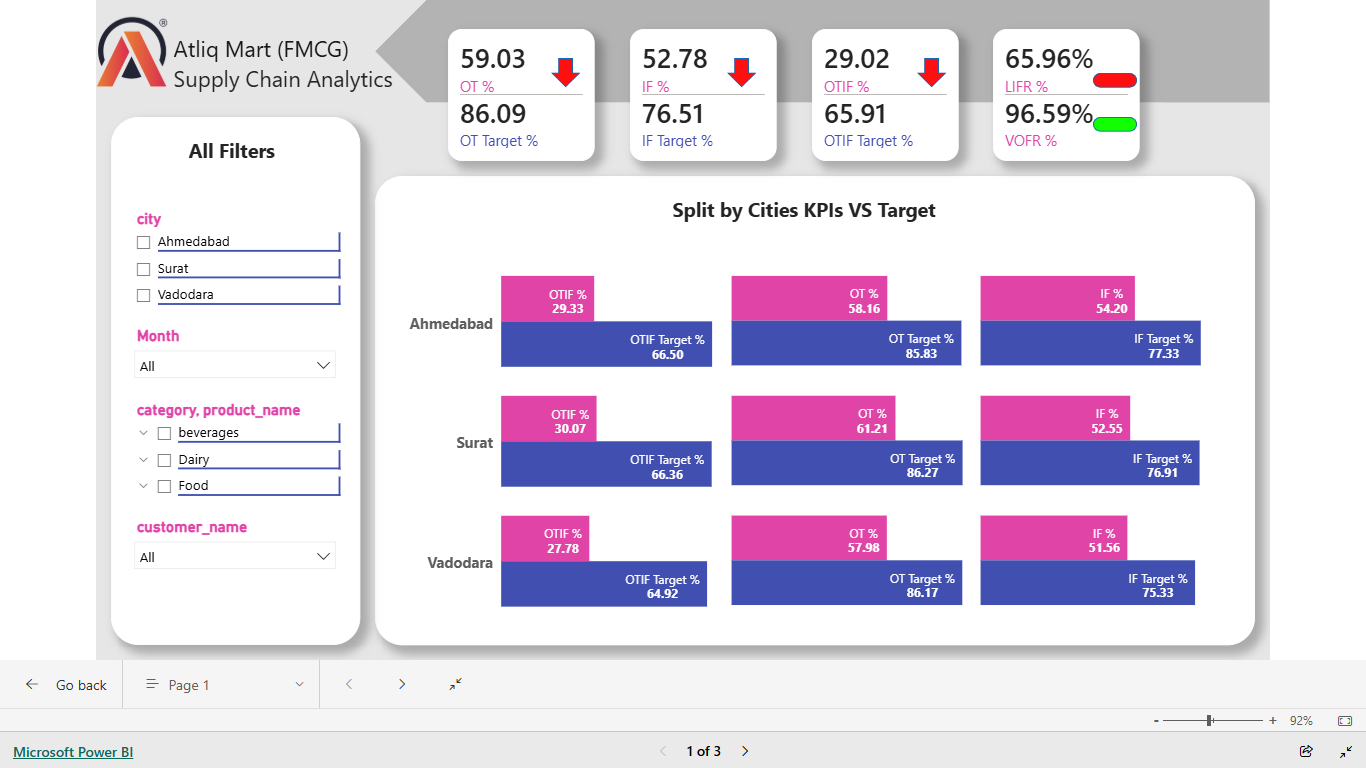

The dashboard page shown, as its layout file describes it:
{"tool":"powerbi","page":{"name":"Page 1","canvas":[1280,720],"ordinal":0},"visuals":[{"type":"shape","box":[304,192,960,512],"z":0},{"type":"image","box":[0,0,80,112],"z":1000},{"type":"clusteredBarChart","title":"OTIF % VS Target %","fields":{"Category":["dim_customers.city"],"Y":["All Mesures.OTIF %","All Mesures.OTIF Target %"]},"box":[336,236,384,484],"z":2000},{"type":"textbox","box":[80,32,272,96],"z":3000},{"type":"cardVisual","fields":{"Data":["All Mesures.OT %","All Mesures.OT Target %"]},"box":[384,32,160,144],"z":3000,"group":"g1"},{"type":"shape","box":[304,0,976,112],"z":4000},{"type":"shape","box":[496,64,32,32],"z":4000,"group":"g1"},{"type":"group","id":"g1","title":"Group 1","box":[384,32,754.9,144],"z":5000},{"type":"cardVisual","fields":{"Data":["All Mesures.IF %","All Mesures.IF Target %"]},"box":[582.3,32,160,144],"z":6000,"group":"g1"},{"type":"textbox","box":[624,208,304,48],"z":6000},{"type":"shape","box":[688,64,32,32],"z":7000,"group":"g1"},{"type":"clusteredBarChart","title":"OTIF % VS Target %","fields":{"Category":["dim_customers.city"],"Y":["All Mesures.OT %","All Mesures.OT Target %"]},"box":[688,288,304,384],"z":7000},{"type":"clusteredBarChart","title":"OTIF % VS Target %","fields":{"Category":["dim_customers.city"],"Y":["All Mesures.IF %","All Mesures.IF Target %"]},"box":[960,288,288,384],"z":8000},{"type":"cardVisual","fields":{"Data":["All Mesures.OTIF %","All Mesures.OTIF Target %"]},"box":[780.6,32,160,144],"z":9000,"group":"g1"},{"type":"shape","box":[16,128,272,576],"z":9000},{"type":"shape","box":[896,64,32,32],"z":10000,"group":"g1"},{"type":"group","id":"g2","title":"Group 2","box":[32,224,240,416],"z":10000},{"type":"slicer","fields":{"Values":["dim_customers.city"]},"box":[32,224,240,128],"z":10000,"group":"g2"},{"type":"textbox","box":[96,144,128,48],"z":11000},{"type":"slicer","fields":{"Values":["dim_date.date.Variation.Date Hierarchy.Month"]},"box":[32,352,240,64],"z":11000,"group":"g2"},{"type":"cardVisual","fields":{"Data":["All Mesures.LIFR %","All Mesures.VOFR %"]},"box":[978.9,32,160,144],"z":12000,"group":"g1"},{"type":"slicer","fields":{"Values":["dim_products.category","dim_products.product_name"]},"box":[32,432,240,128],"z":12000,"group":"g2"},{"type":"shape","box":[1088,128,48,16],"z":13000,"group":"g1"},{"type":"slicer","fields":{"Values":["dim_customers.customer_name"]},"box":[32,560,240,80],"z":13000,"group":"g2"},{"type":"shape","box":[1088,80,48,16],"z":14000,"group":"g1"}]}

Visuals, with their boxes on the page's 1280x720 design canvas (x1, y1, x2, y2). These are canvas units, not pixel positions in the 1366x768 screenshot, which may show the page scaled, cropped or inside an application window:
shape: <region>304, 192, 1264, 704</region>
image: <region>0, 0, 80, 112</region>
"OTIF % VS Target %" clusteredBarChart: <region>336, 236, 720, 720</region>
textbox: <region>80, 32, 352, 128</region>
cardVisual - All Mesures.OT % x All Mesures.OT Target %: <region>384, 32, 544, 176</region>
shape: <region>304, 0, 1280, 112</region>
shape: <region>496, 64, 528, 96</region>
"Group 1" group: <region>384, 32, 1139, 176</region>
cardVisual - All Mesures.IF % x All Mesures.IF Target %: <region>582, 32, 742, 176</region>
textbox: <region>624, 208, 928, 256</region>
shape: <region>688, 64, 720, 96</region>
"OTIF % VS Target %" clusteredBarChart: <region>688, 288, 992, 672</region>
"OTIF % VS Target %" clusteredBarChart: <region>960, 288, 1248, 672</region>
cardVisual - All Mesures.OTIF % x All Mesures.OTIF Target %: <region>781, 32, 941, 176</region>
shape: <region>16, 128, 288, 704</region>
shape: <region>896, 64, 928, 96</region>
"Group 2" group: <region>32, 224, 272, 640</region>
slicer - dim_customers.city: <region>32, 224, 272, 352</region>
textbox: <region>96, 144, 224, 192</region>
slicer - dim_date.date.Variation.Date Hierarchy.Month: <region>32, 352, 272, 416</region>
cardVisual - All Mesures.LIFR % x All Mesures.VOFR %: <region>979, 32, 1139, 176</region>
slicer - dim_products.category x dim_products.product_name: <region>32, 432, 272, 560</region>
shape: <region>1088, 128, 1136, 144</region>
slicer - dim_customers.customer_name: <region>32, 560, 272, 640</region>
shape: <region>1088, 80, 1136, 96</region>
